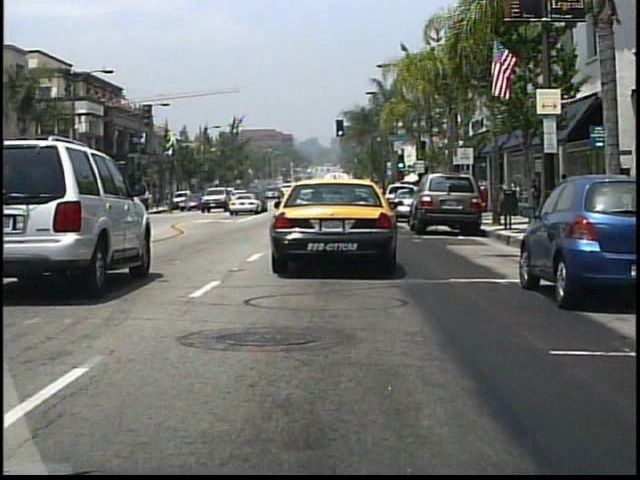person: (527, 175, 546, 228)
